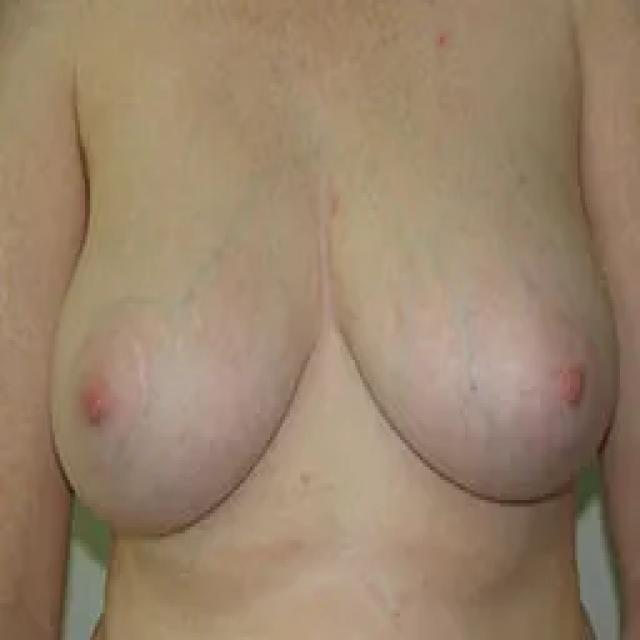Seno ileso: (41, 156, 326, 569), (333, 154, 628, 535)
